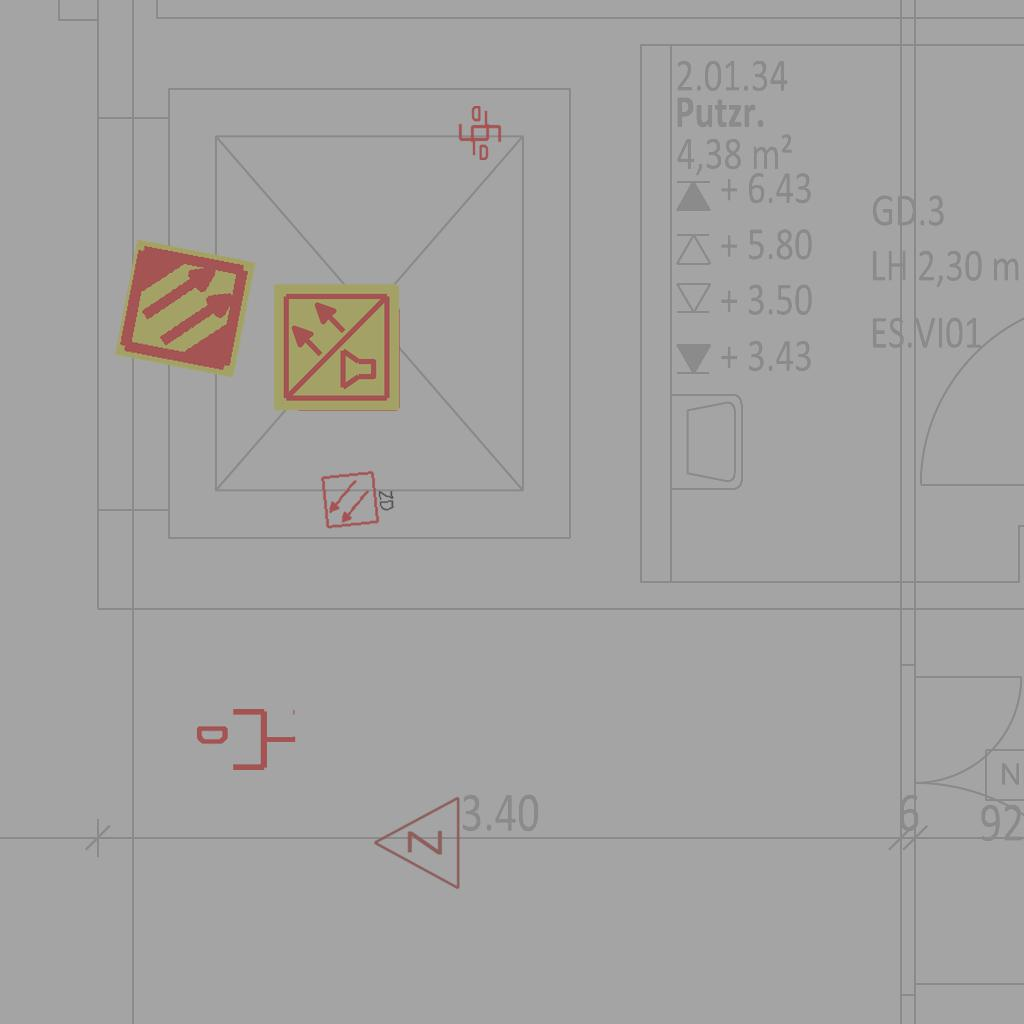ASR_Ansaugrauchmelder: (112, 235, 259, 382)
Datenanschluss_einfach: (197, 705, 297, 774), (457, 106, 491, 156), (469, 110, 503, 160)
OKW_Multisensormelder_(Kombination_optischer_Rauch-Kahlenmonoxid_Waerme-Melder): (271, 281, 403, 413)
ZD_Melder_in_Zwischendecke_mit_Revisionsoeffnung_mind_40_x_40_cm: (319, 465, 400, 531)
Zimmersignalleuchte: (367, 795, 467, 893)
